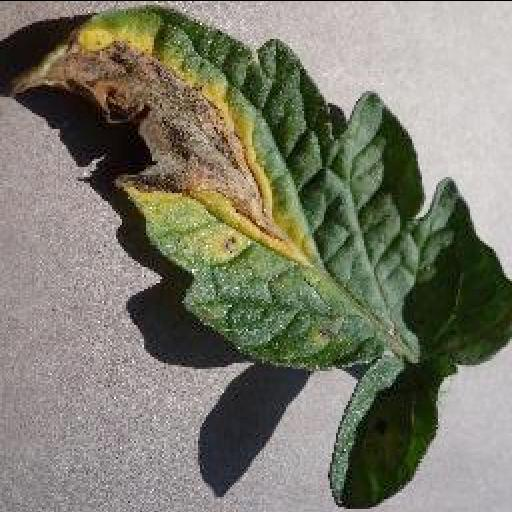disease_tomato: (12, 0, 512, 512)
